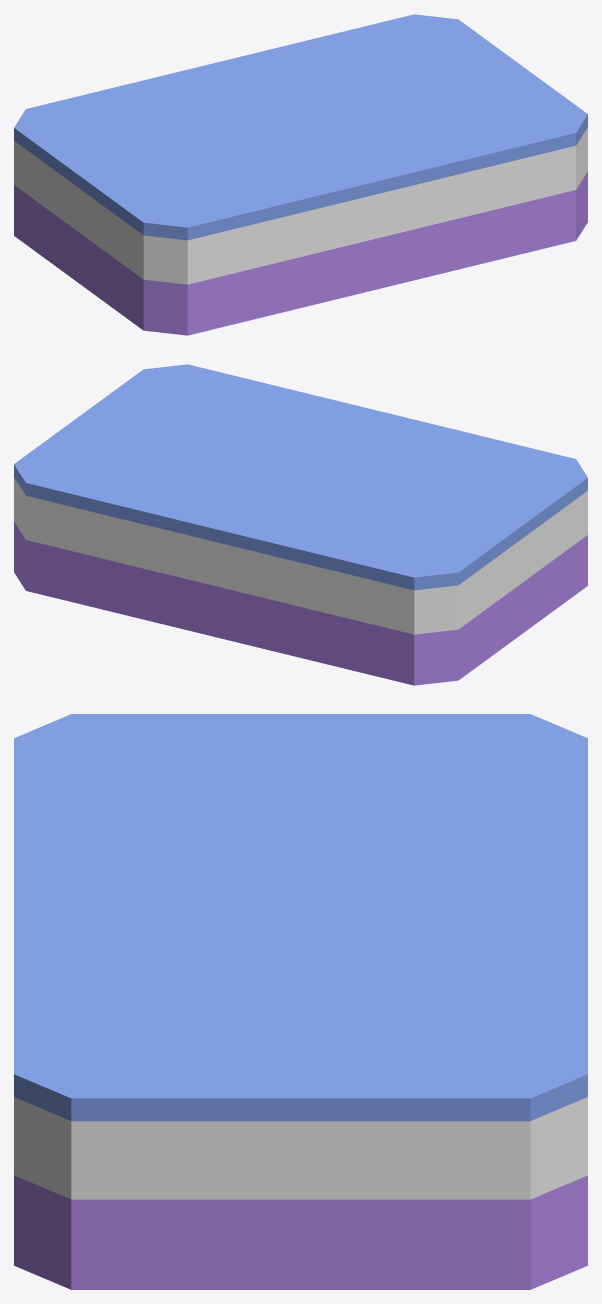
Rendered from Building_040_c.fbx.
3 renders of one model, top to bottom at view 1: azimuth 30°, elevation 25°; view 2: azimuth 150°, elevation 25°; view 3: azimuth 270°, elevation 25°, orthographic. The views are drawn at different scales.
Parts seen in each view (by area): view 1: Building_040_c; view 2: Building_040_c; view 3: Building_040_c.
Part boxes in pixels (box(x1,y1,x2,y2)): Building_040_c: box(14, 14, 587, 335); Building_040_c: box(14, 364, 587, 685); Building_040_c: box(14, 714, 587, 1289).
Size of the model in its own units: 35.01 by 8.13 by 22.09.
